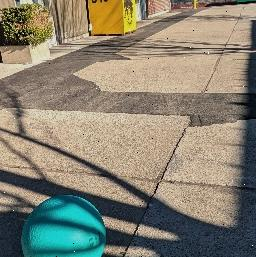algae: (19, 192, 105, 257)
